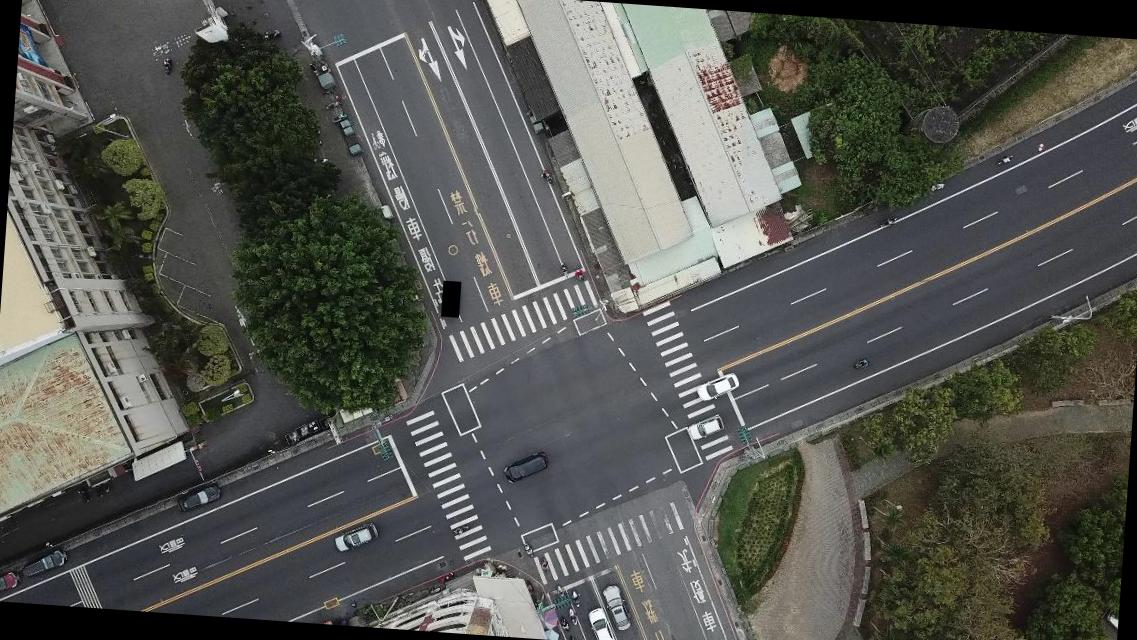vehicle: (20, 544, 68, 582), (502, 448, 550, 485), (332, 518, 379, 555), (600, 582, 634, 631), (696, 368, 739, 404), (176, 480, 221, 514), (584, 604, 623, 639), (684, 412, 724, 442), (0, 569, 16, 600)
